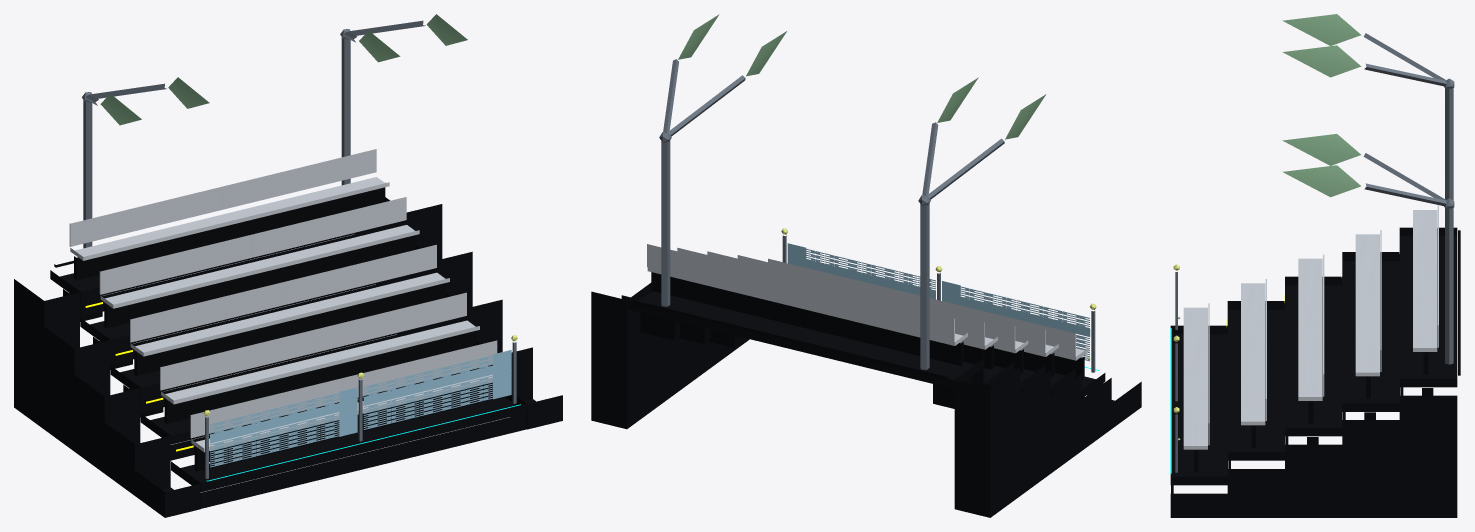
File: tt_stand_module_6p5.glb
3 views of the same model, side by side, from view 1: azimuth 30°, elevation 25°; view 2: azimuth 150°, elevation 25°; view 3: azimuth 270°, elevation 25° (orthographic). The views are drawn at different scales.
Parts seen in each view (by area): view 1: Seat_Backs, Aisle_Solid, Seat_Beams, Seat_Pans, Tier_Slabs, Guard_Scissor, Risers, Canopy_Steel, Canopy_Leaves, Rail_Posts, Beams; view 2: Aisle_Solid, Seat_Backs, Tier_Slabs, Seat_Beams, Canopy_Steel, Guard_Scissor, Beams, Canopy_Leaves, Seat_Pans; view 3: Tier_Slabs, Aisle_Solid, Seat_Pans, Canopy_Leaves, Canopy_Steel, Seat_Backs, Beams, Seat_Beams, Rail_Posts.
Boxes of the visible parts, left/top/right/bottom form: Seat_Backs: left=69, top=149, right=497, bottom=438; Aisle_Solid: left=14, top=197, right=562, bottom=517; Seat_Beams: left=74, top=182, right=505, bottom=471; Seat_Pans: left=70, top=177, right=492, bottom=452; Tier_Slabs: left=50, top=220, right=526, bottom=492; Guard_Scissor: left=210, top=350, right=511, bottom=467; Risers: left=80, top=222, right=526, bottom=508; Canopy_Steel: left=82, top=20, right=425, bottom=248; Canopy_Leaves: left=100, top=14, right=467, bottom=125; Rail_Posts: left=205, top=342, right=516, bottom=478; Beams: left=54, top=224, right=454, bottom=417; Aisle_Solid: left=591, top=283, right=1141, bottom=517; Seat_Backs: left=647, top=244, right=1075, bottom=356; Tier_Slabs: left=627, top=291, right=1105, bottom=396; Seat_Beams: left=651, top=272, right=1084, bottom=380; Canopy_Steel: left=659, top=59, right=1004, bottom=369; Guard_Scissor: left=787, top=243, right=1090, bottom=361; Beams: left=631, top=300, right=1026, bottom=408; Canopy_Leaves: left=678, top=14, right=1046, bottom=139; Seat_Pans: left=647, top=267, right=1088, bottom=360; Tier_Slabs: left=1170, top=236, right=1457, bottom=485; Aisle_Solid: left=1170, top=227, right=1457, bottom=517; Seat_Pans: left=1183, top=210, right=1437, bottom=449; Canopy_Leaves: left=1282, top=14, right=1361, bottom=197; Canopy_Steel: left=1363, top=33, right=1454, bottom=364; Seat_Backs: left=1208, top=205, right=1438, bottom=445; Beams: left=1307, top=230, right=1460, bottom=444; Seat_Beams: left=1194, top=352, right=1428, bottom=472; Rail_Posts: left=1175, top=272, right=1177, bottom=472.
Size of what is drawn, in the model's own units: 6.47 by 5.47 by 4.31.
Materials: 10 (5 with a texture image).
